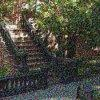stairs: (6, 23, 60, 78)
